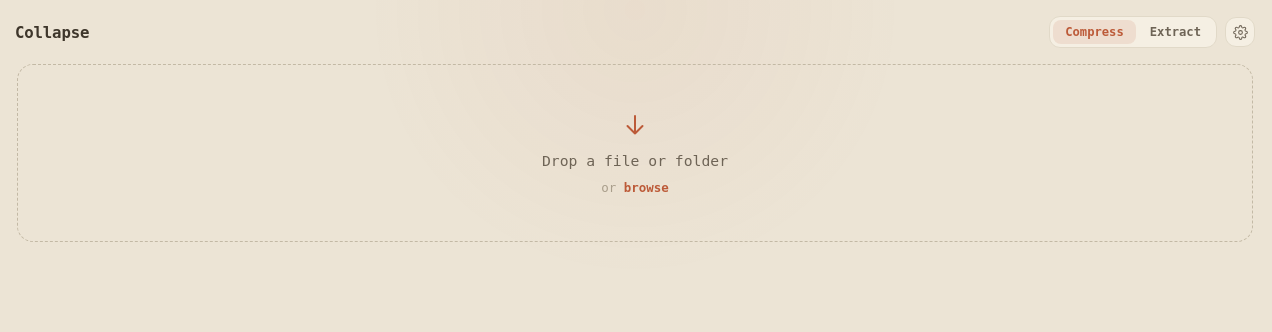
Scenario: App › extracts an archive with the right command and args
Click the button "Extract" at (1175, 32), box [1138, 20, 1213, 44]
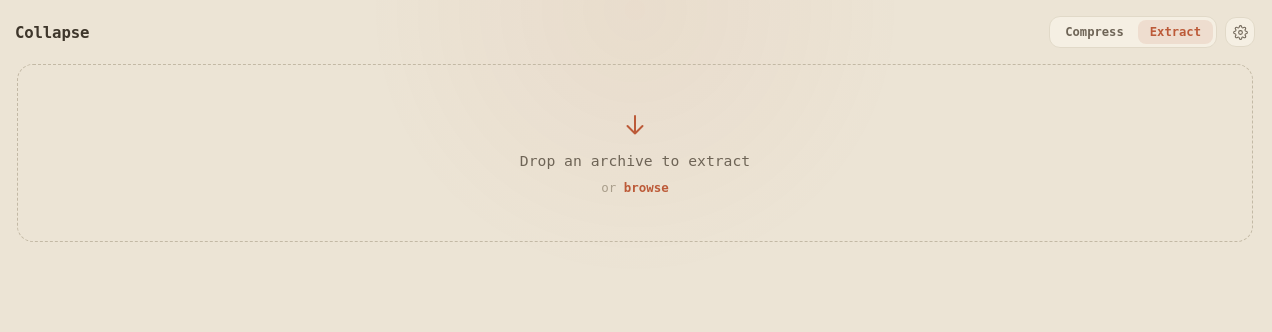
Click the element with class "drop" at (635, 153), box [17, 64, 1253, 242]
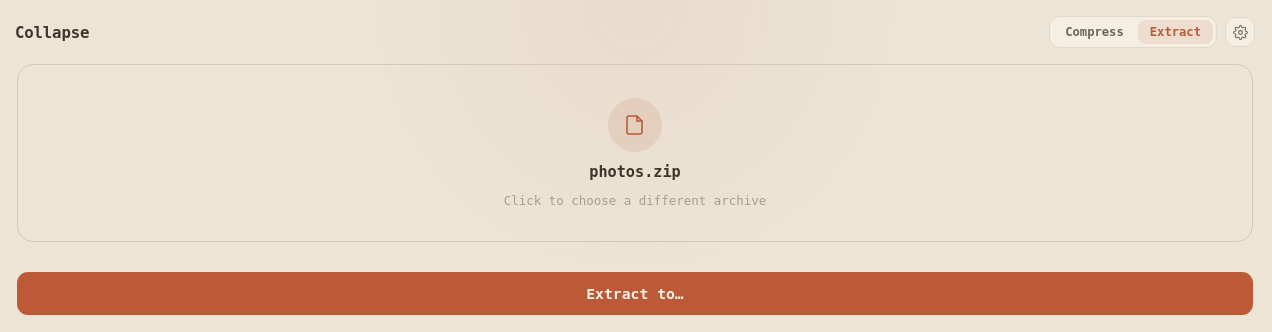
Click the button with class "cta" at (635, 294), box [17, 272, 1253, 315]
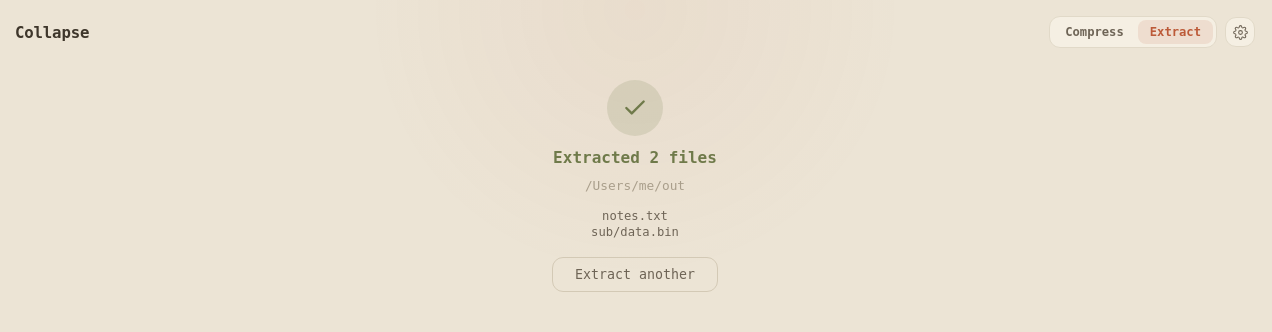
Expected: the text "Extracted 2 files" is shown, [553, 148, 717, 167]
